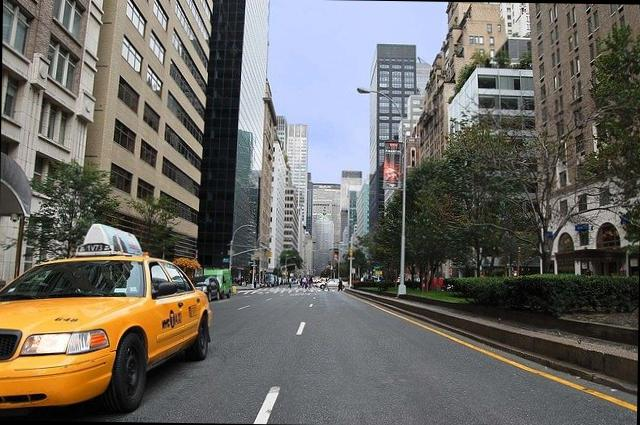taxi: (1, 249, 214, 409)
